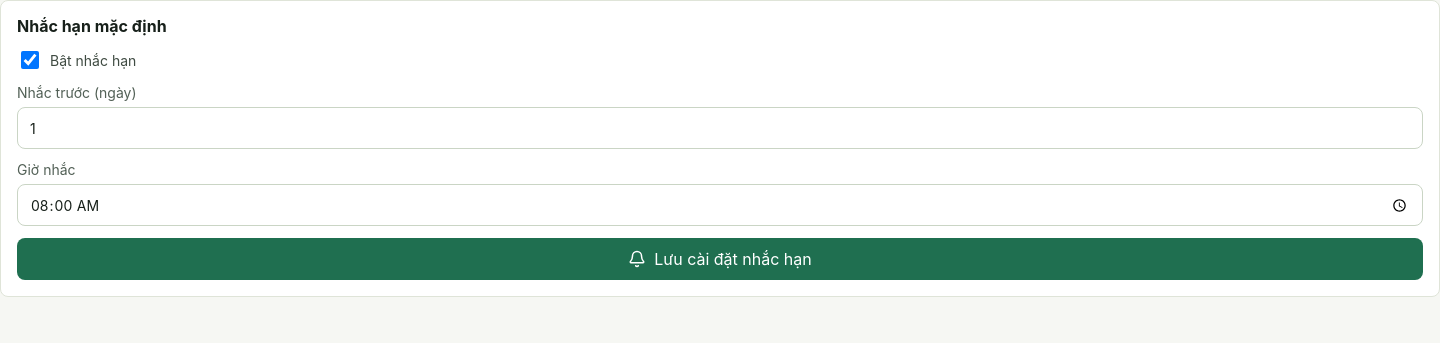
it: ReminderSettings › rejects a blank global reminder offset instead of saving it as zero
The width and height of the screenshot is (1440, 343).
Clear the field labelled "Nhắc trước (ngày)": point(720, 128) left=17, top=107, right=1423, bottom=149
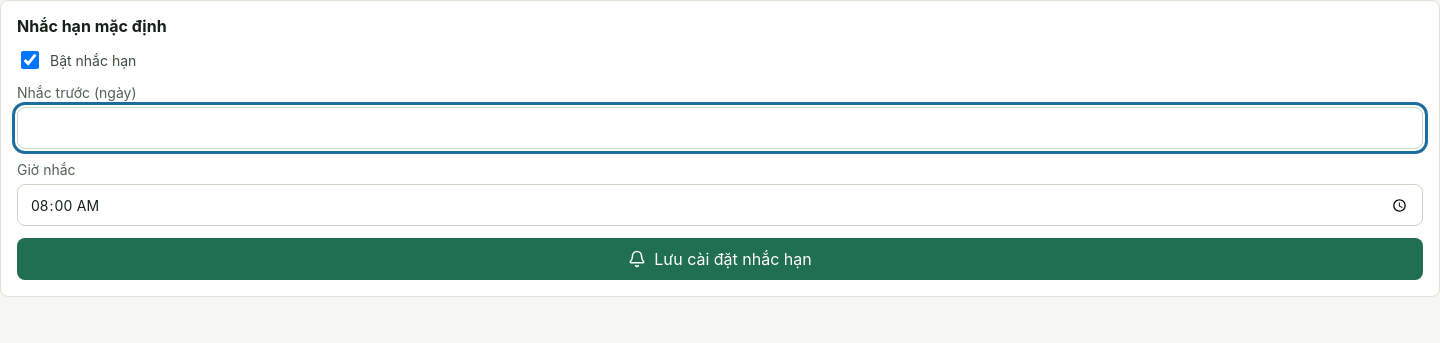
Click the button "Lưu cài đặt nhắc hạn": point(720, 259) left=17, top=238, right=1423, bottom=280
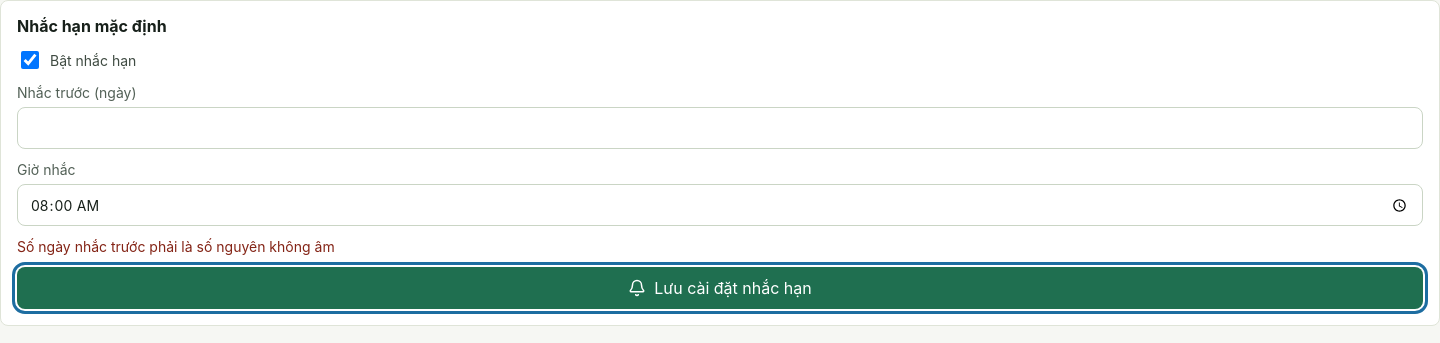
expect the message reads "Số ngày nhắc trước phải là số nguyên không âm": met, box left=17, top=238, right=335, bottom=255
